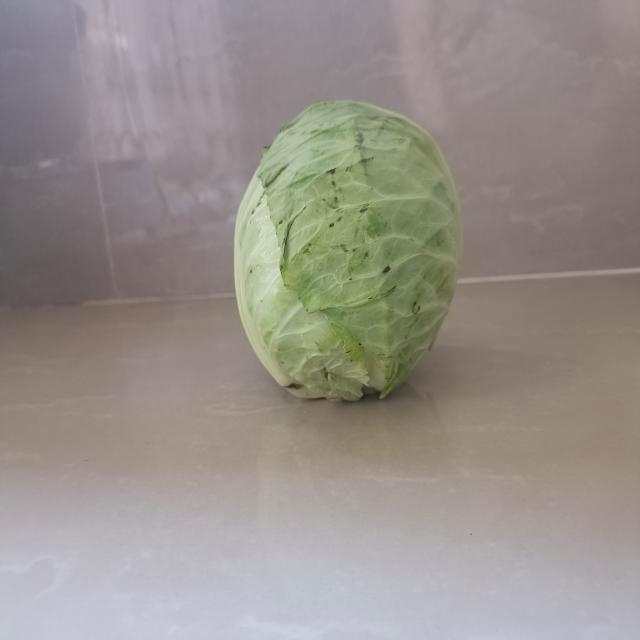cabbage: (235, 96, 460, 403)
